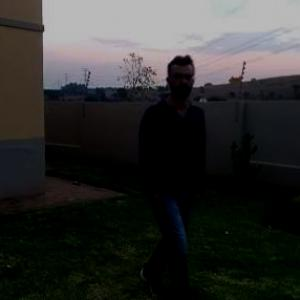follow: (105, 43, 214, 299)
